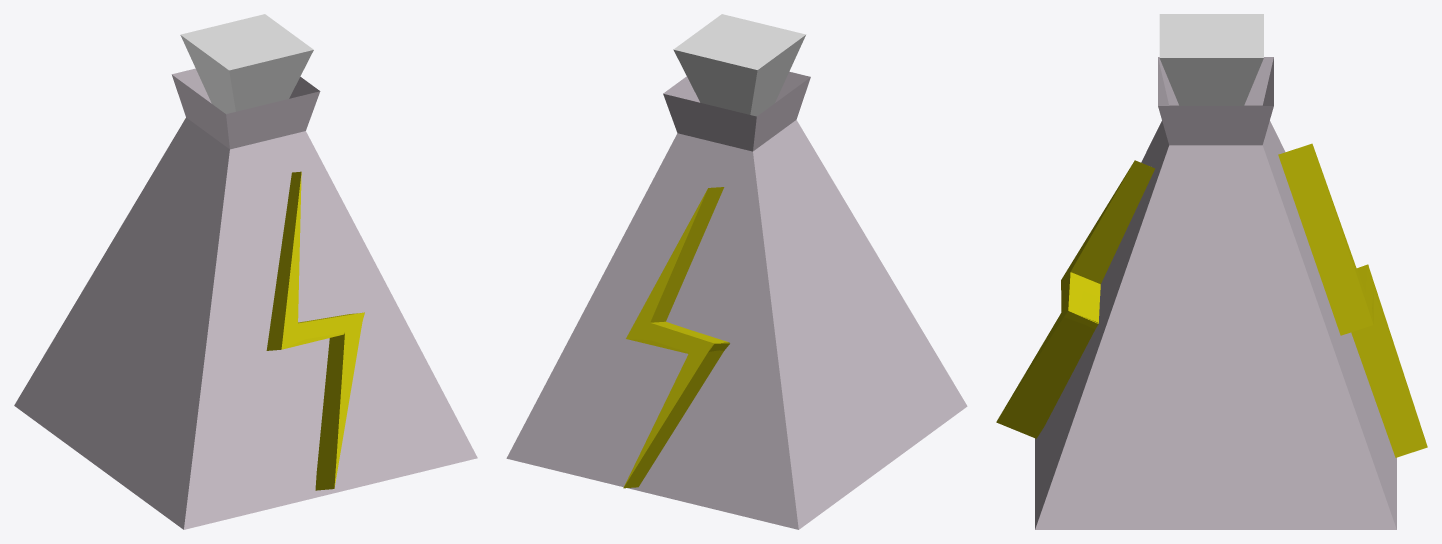
The model's file is potion.fbx.
The picture shows the model from 3 angles, left to right: view 1: azimuth 30°, elevation 25°; view 2: azimuth 150°, elevation 25°; view 3: azimuth 270°, elevation 25°; orthographic projection. The views are drawn at different scales.
Visible parts, largest first — view 1: Cube, Text, Cube.001; view 2: Cube, Cube.001, Text.001; view 3: Cube, Text.001, Text, Cube.001.
Boxes of the visible parts, bbox=[...] form: Cube: bbox=[14, 68, 477, 529]; Text: bbox=[266, 171, 364, 490]; Cube.001: bbox=[180, 14, 313, 113]; Cube: bbox=[506, 71, 967, 529]; Cube.001: bbox=[673, 14, 805, 116]; Text.001: bbox=[623, 187, 729, 488]; Cube: bbox=[1035, 57, 1396, 529]; Text.001: bbox=[1278, 143, 1427, 457]; Text: bbox=[996, 160, 1155, 438]; Cube.001: bbox=[1159, 14, 1263, 105].
Bounding box in the file's own units: 67.27 × 85.54 × 80.26.
